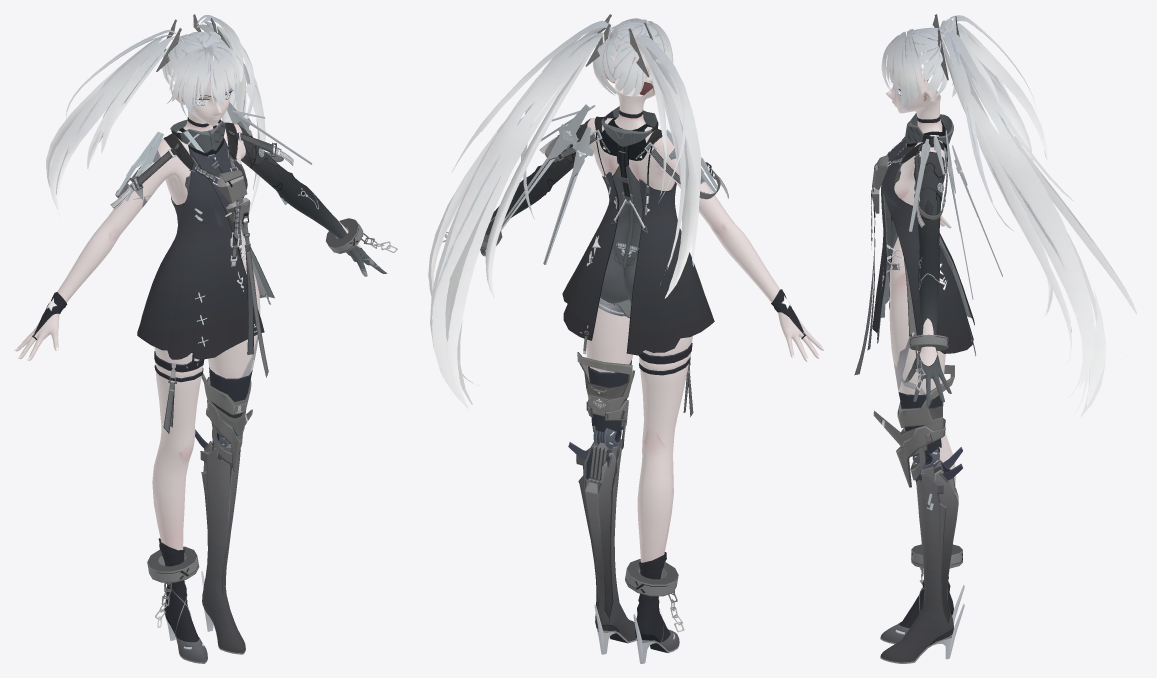
Rendered from R2BlackrockMd019031_static_reference.glb.
3 views of the same model, side by side, from view 1: azimuth 30°, elevation 25°; view 2: azimuth 150°, elevation 25°; view 3: azimuth 270°, elevation 25° (orthographic). The views are drawn at different scales.
Parts seen in each view (by area): view 1: R2BlackrockMd019031Upper, R2BlackrockMd019031Down, R2BlackrockMd019031Body, R2BlackrockMd010011Hair, R2BlackrockMd010011Face; view 2: R2BlackrockMd010011Hair, R2BlackrockMd019031Upper, R2BlackrockMd019031Down, R2BlackrockMd019031Body; view 3: R2BlackrockMd010011Hair, R2BlackrockMd019031Upper, R2BlackrockMd019031Down, R2BlackrockMd019031Body, R2BlackrockMd010011Face.
Boxes of the visible parts, <box> form: R2BlackrockMd019031Upper: <box>32,14,387,377</box>; R2BlackrockMd019031Down: <box>147,201,397,663</box>; R2BlackrockMd019031Body: <box>14,109,361,550</box>; R2BlackrockMd010011Hair: <box>46,15,265,229</box>; R2BlackrockMd010011Face: <box>172,71,234,126</box>; R2BlackrockMd010011Hair: <box>428,18,700,408</box>; R2BlackrockMd019031Upper: <box>480,14,806,355</box>; R2BlackrockMd019031Down: <box>442,165,693,663</box>; R2BlackrockMd019031Body: <box>586,81,825,562</box>; R2BlackrockMd010011Hair: <box>881,15,1136,416</box>; R2BlackrockMd019031Upper: <box>854,14,1002,405</box>; R2BlackrockMd019031Down: <box>873,197,964,663</box>; R2BlackrockMd019031Body: <box>889,81,955,485</box>; R2BlackrockMd010011Face: <box>886,50,931,113</box>.
Bounding box in the file's own units: 1.07 × 1.69 × 0.7021.
6 materials, 6 textured.
